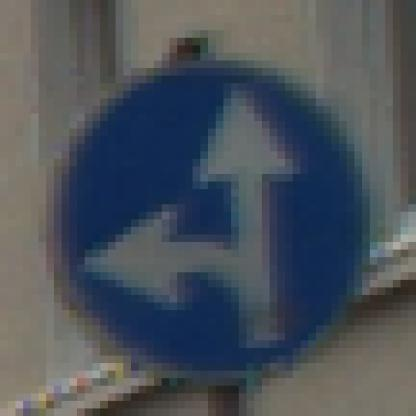Straight or Left: (47, 47, 371, 372)
